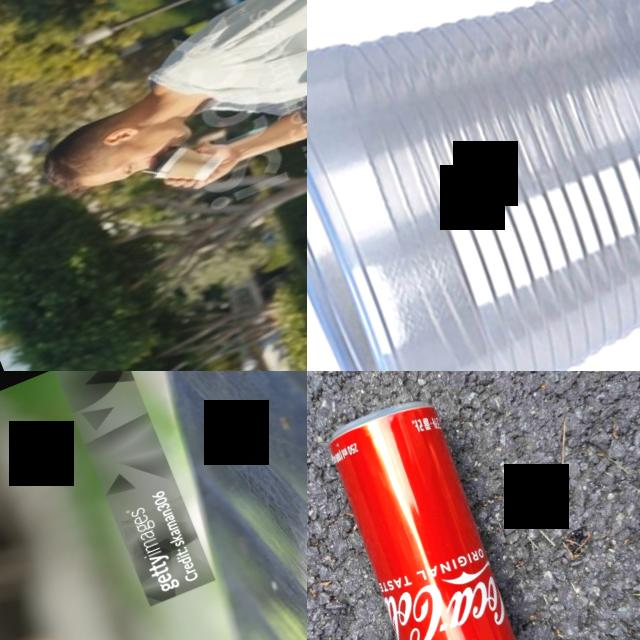can: (307, 387, 543, 640)
cup: (307, 0, 640, 371), (138, 126, 230, 200), (289, 77, 307, 129)
